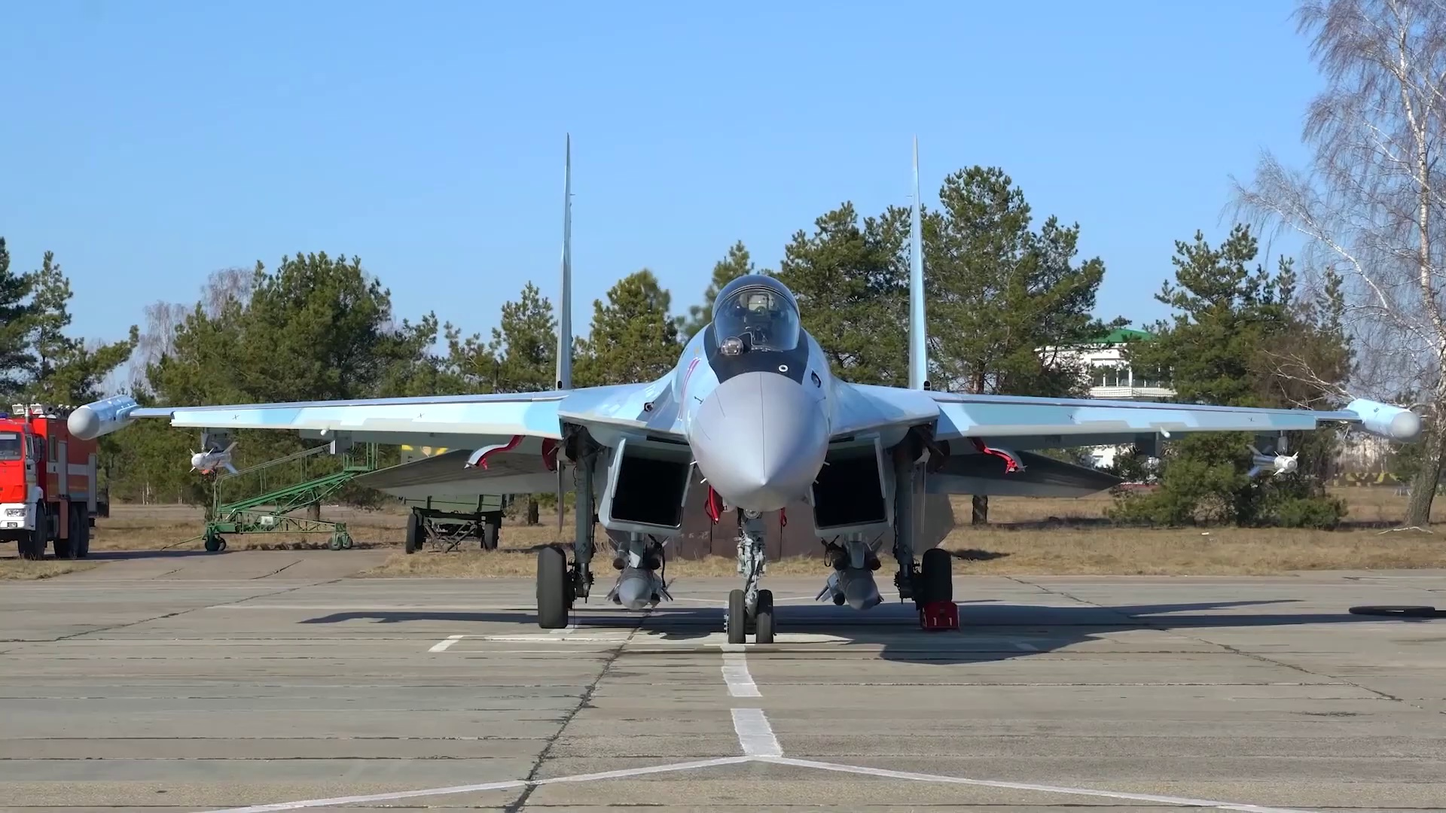Su35: (68, 132, 1422, 645)
